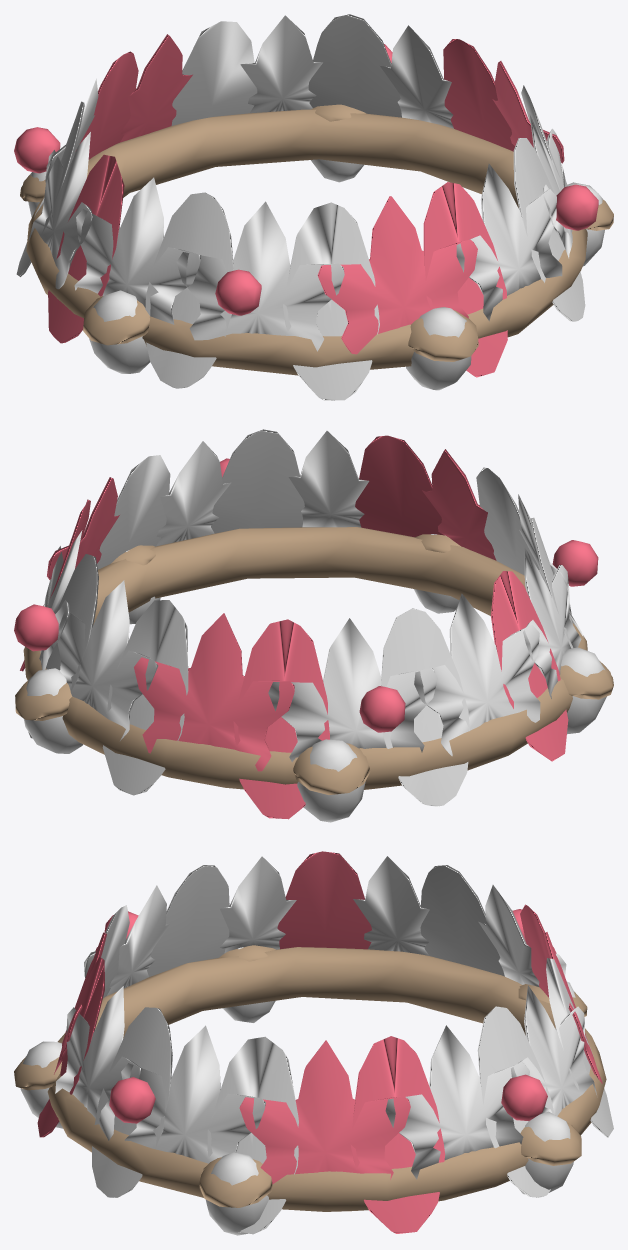
File: LeafCrown.glb
3 views of the same model, one above another, from view 1: azimuth 30°, elevation 25°; view 2: azimuth 150°, elevation 25°; view 3: azimuth 270°, elevation 25° (orthographic).
Visible parts, largest first — view 1: Bark, Berry, Leaf2, Leaf3, Leaf, Acorn; view 2: Bark, Berry, Leaf2, Leaf3, Leaf, Acorn; view 3: Bark, Berry, Leaf2, Leaf3, Leaf, Acorn.
Boxes of the visible parts, x1=… form: Bark: x1=20, y1=104, x2=613, y2=375; Berry: x1=14, y1=34, x2=598, y2=377; Leaf2: x1=28, y1=15, x2=572, y2=400; Leaf3: x1=34, y1=25, x2=562, y2=324; Leaf: x1=16, y1=14, x2=585, y2=388; Acorn: x1=28, y1=159, x2=604, y2=390; Bark: x1=15, y1=527, x2=613, y2=794; Berry: x1=14, y1=435, x2=598, y2=819; Leaf2: x1=55, y1=441, x2=583, y2=795; Leaf3: x1=40, y1=431, x2=581, y2=762; Leaf: x1=28, y1=429, x2=573, y2=806; Acorn: x1=24, y1=534, x2=606, y2=822; Bark: x1=14, y1=945, x2=606, y2=1211; Berry: x1=37, y1=851, x2=602, y2=1233; Leaf2: x1=84, y1=856, x2=613, y2=1234; Leaf3: x1=55, y1=856, x2=566, y2=1179; Leaf: x1=92, y1=865, x2=554, y2=1197; Acorn: x1=20, y1=947, x2=575, y2=1235.
Bounding box in the file's own units: 1.55 × 0.521 × 1.56.
